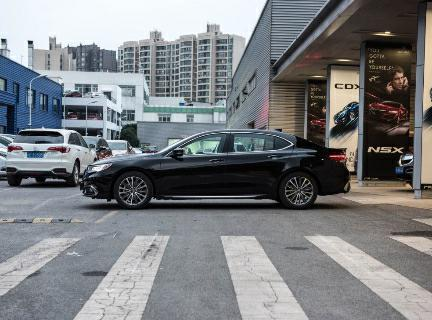讴歌-TLX-L: (78, 126, 358, 215)
